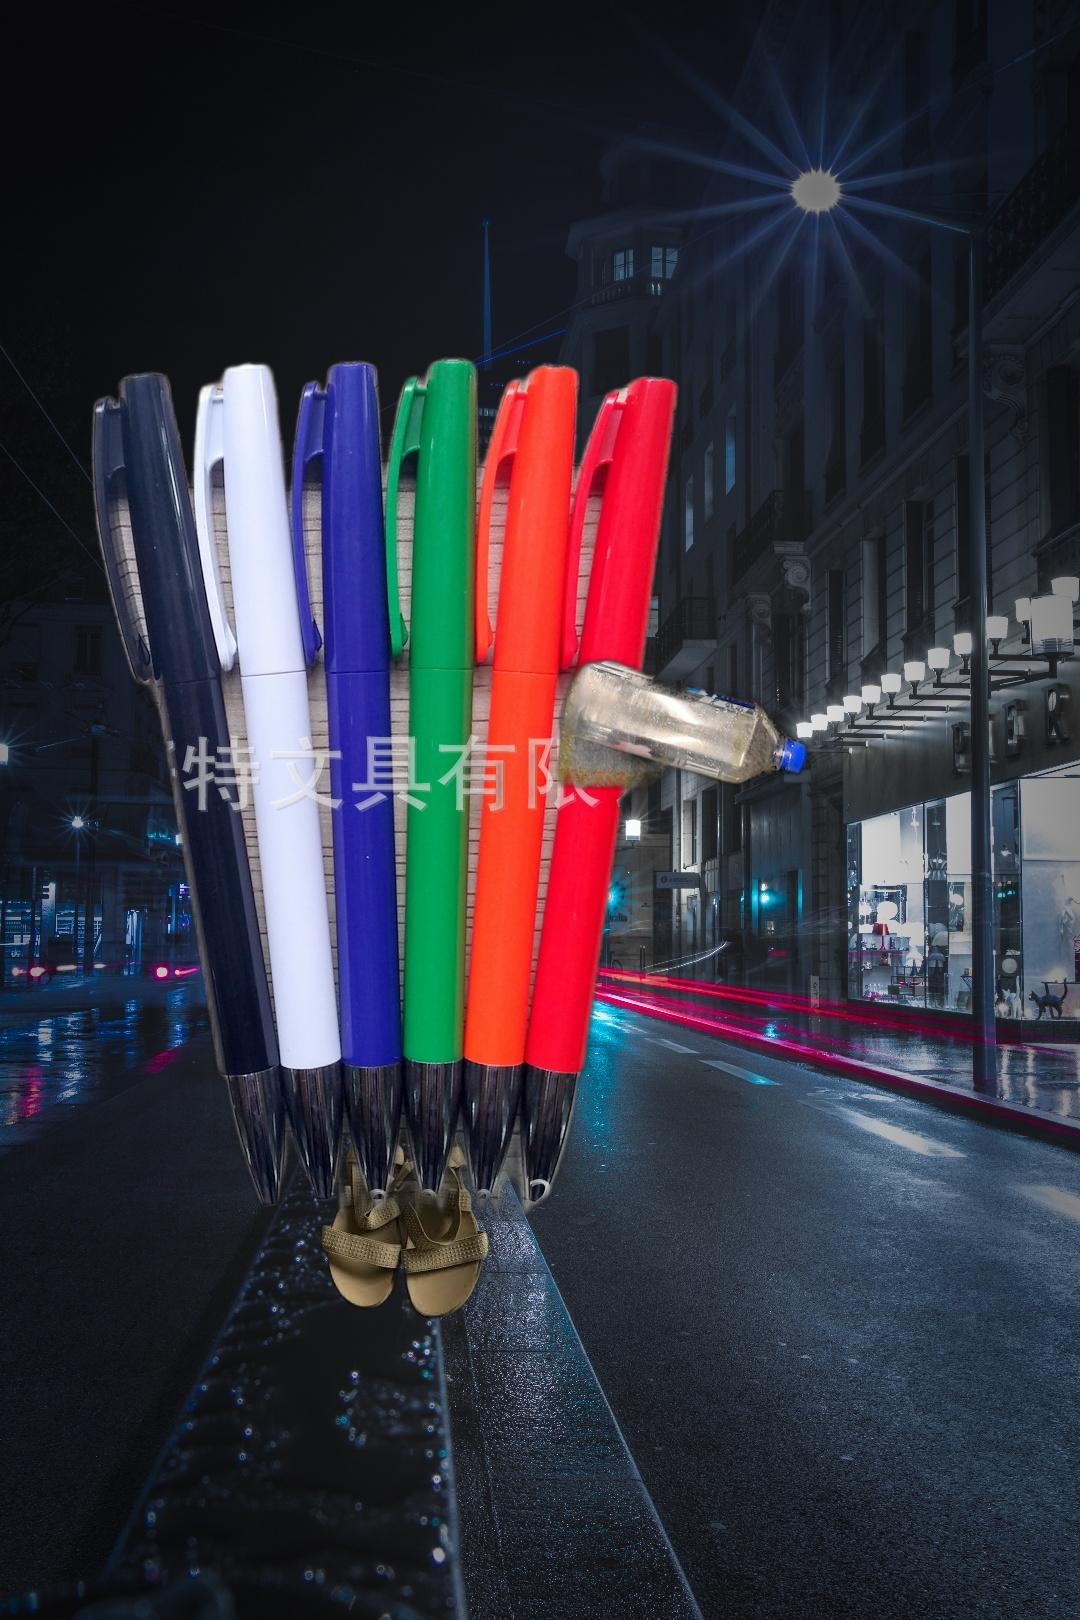penholder: (83, 348, 759, 1235)
plastic-bottles: (551, 606, 820, 796)
shoes: (319, 1115, 491, 1321)
